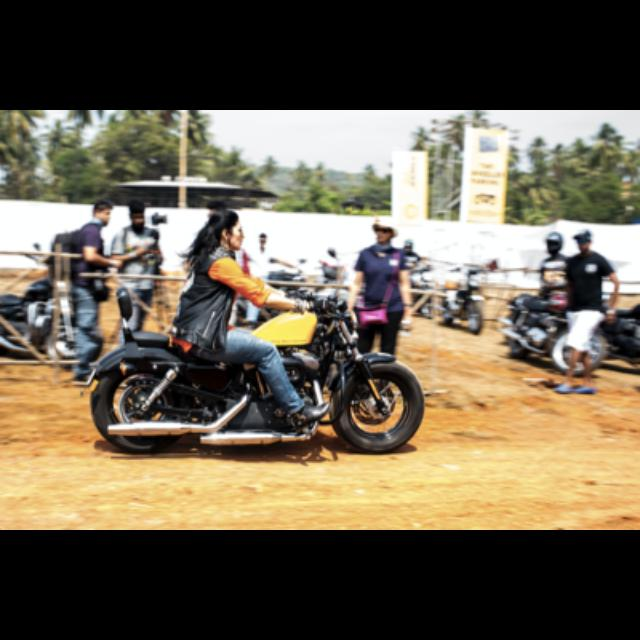Without Helmet: (192, 189, 254, 267)
